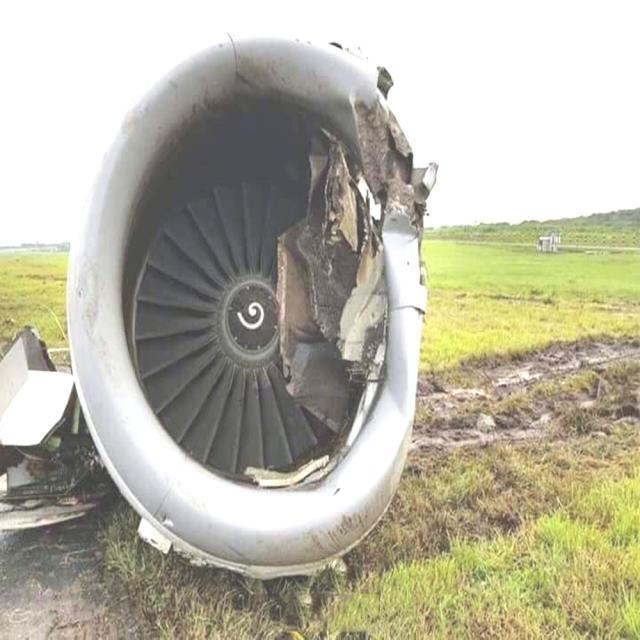dent: (380, 331, 414, 499), (384, 214, 418, 260)
